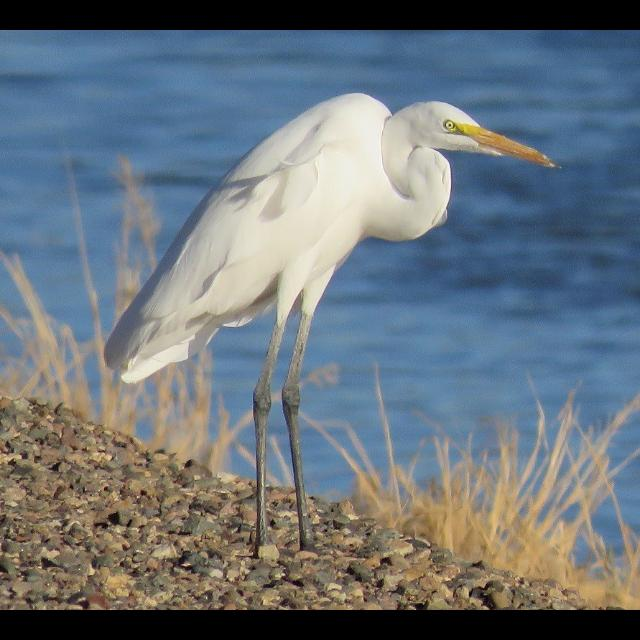egret: (106, 91, 554, 499)
